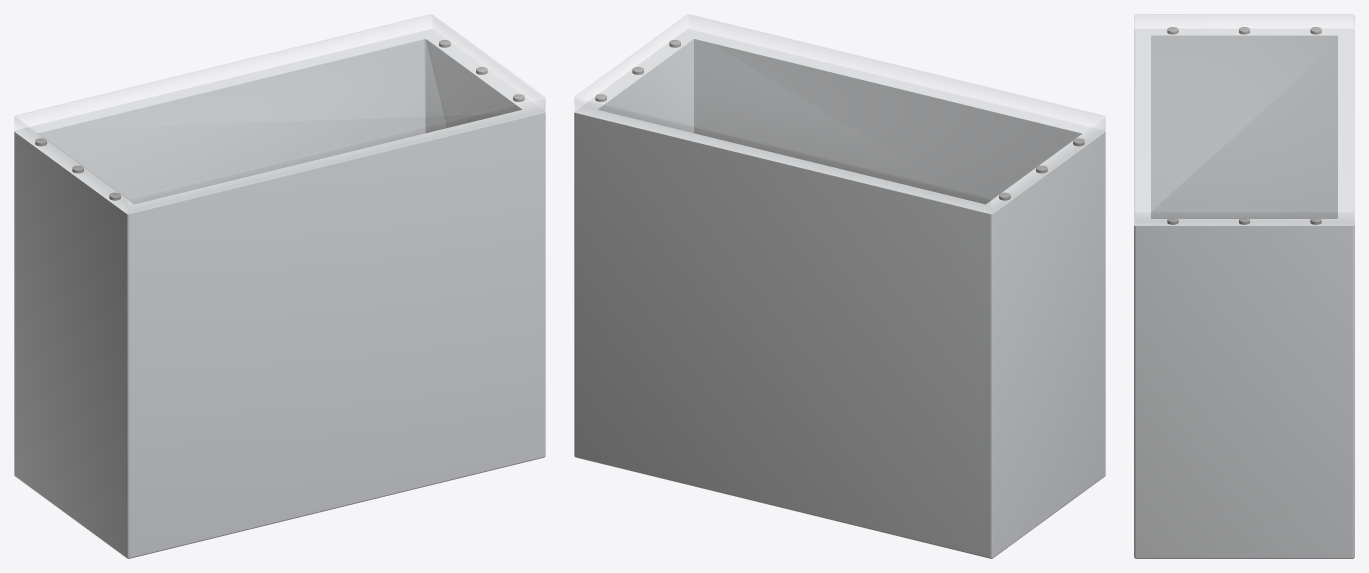
File: acrylic-case-tcg-onepiece.glb
The picture shows the model from 3 angles, left to right: view 1: azimuth 30°, elevation 25°; view 2: azimuth 150°, elevation 25°; view 3: azimuth 270°, elevation 25°; orthographic projection. The views are drawn at different scales.
Visible parts, largest first — view 1: Cube, Cube.002; view 2: Cube, Cube.002; view 3: Cube, Cube.002.
Boxes of the visible parts, x1,y1,x2,y2 form: Cube: [14, 29, 545, 558]; Cube.002: [14, 14, 545, 213]; Cube: [574, 29, 1105, 558]; Cube.002: [574, 14, 1105, 213]; Cube: [1134, 28, 1354, 558]; Cube.002: [1134, 14, 1354, 225].
Size of the model in its own units: 0.165 by 0.136 by 0.078.
Materials: 4 (3 with a texture image).
